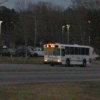Bus: (39, 40, 90, 70)
